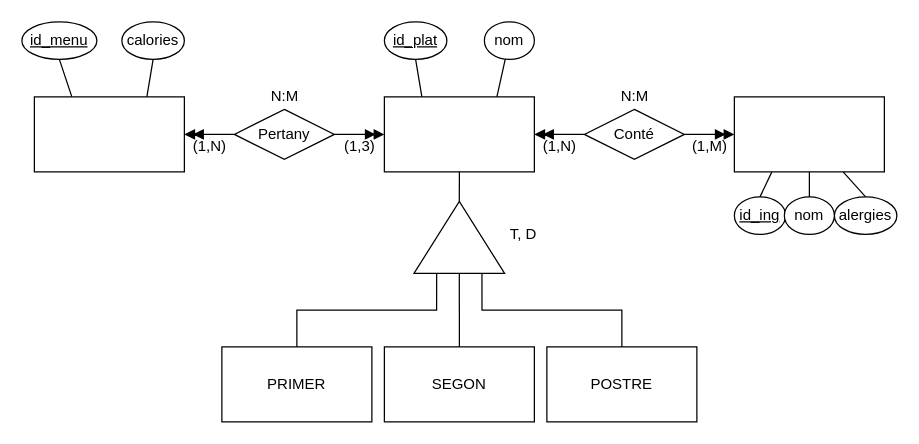
The diagram is 919 pixels wide and 444 high, and some of its shapes have lost their labels. Each missing label, with the centre of its shape:
"ES" goes at (459,236).
"INGREDIENT" goes at (808,134).
"MENÚ" goes at (108,134).
"PLAT" goes at (458,134).
